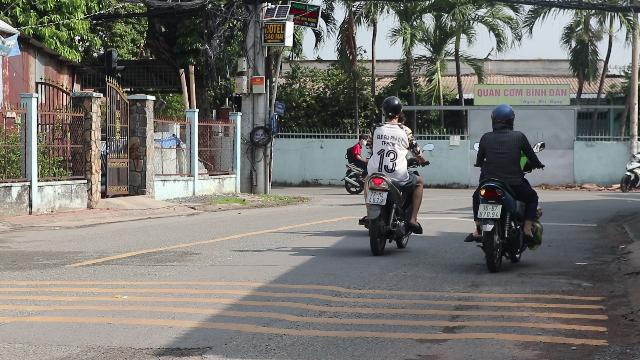helmet: (489, 103, 515, 129), (381, 96, 404, 122)
licenseplate: (478, 204, 500, 218), (366, 191, 386, 205)
motorcyclist: (464, 102, 544, 268), (357, 94, 427, 253)
